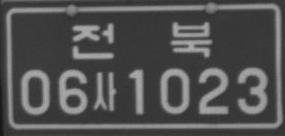0: (158, 67, 190, 115), (20, 68, 50, 115)
1: (123, 68, 152, 115)
2: (198, 67, 230, 115)
3: (237, 66, 269, 115)
6: (58, 68, 88, 115)
사: (91, 71, 116, 111)
전북_D: (71, 18, 212, 61)
